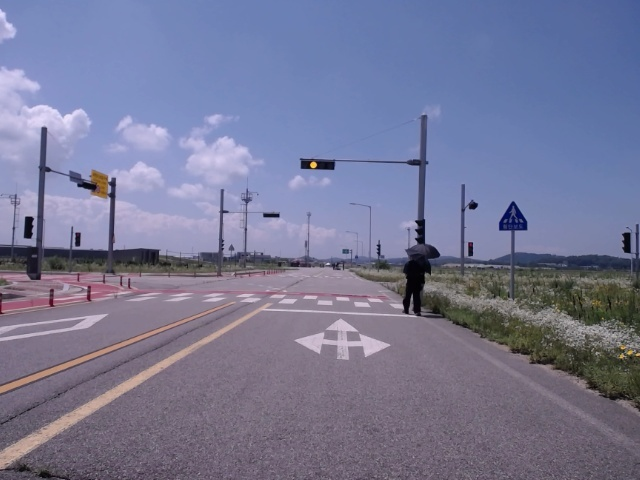orange_4: (301, 160, 335, 169)
